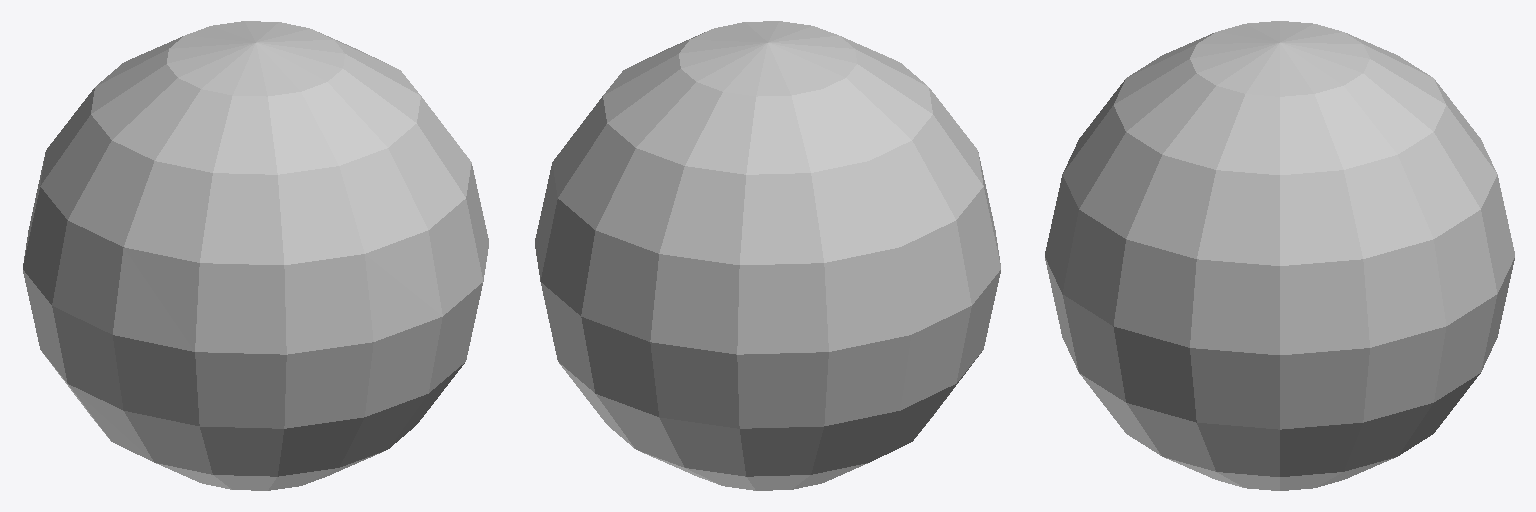
The model's file is esphere.obj.
The picture shows the model from 3 angles: view 1: azimuth 30°, elevation 25°; view 2: azimuth 150°, elevation 25°; view 3: azimuth 270°, elevation 25°; orthographic projection.
Parts seen in each view (by area): view 1: Sphere001; view 2: Sphere001; view 3: Sphere001.
Boxes of the visible parts, x1,y1,x2,y2 form: Sphere001: [23, 21, 488, 490]; Sphere001: [535, 21, 1000, 490]; Sphere001: [1045, 21, 1514, 490].
Size of the model in its own units: 4 by 4 by 4.